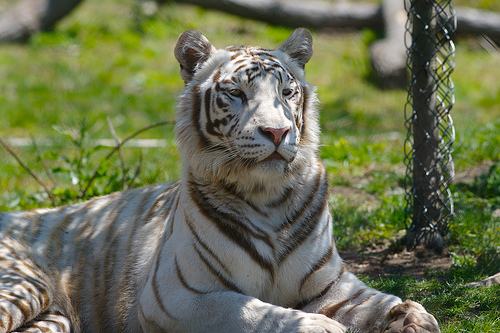Tigre: (124, 25, 375, 298)
